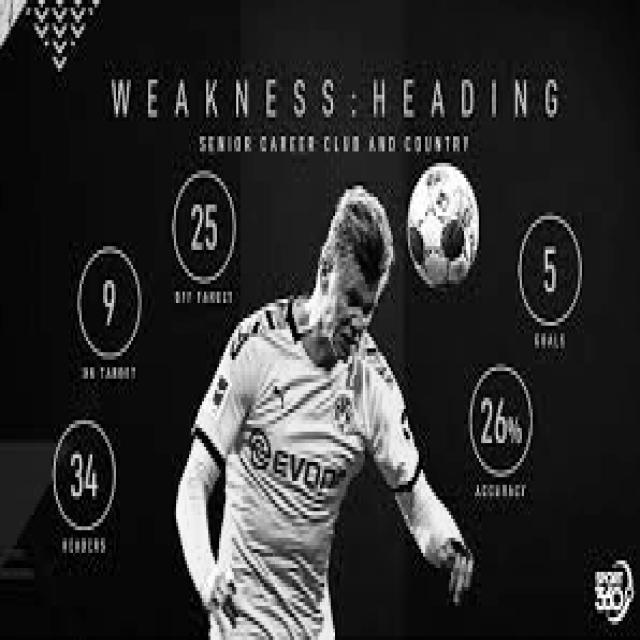football: (406, 163, 481, 292)
